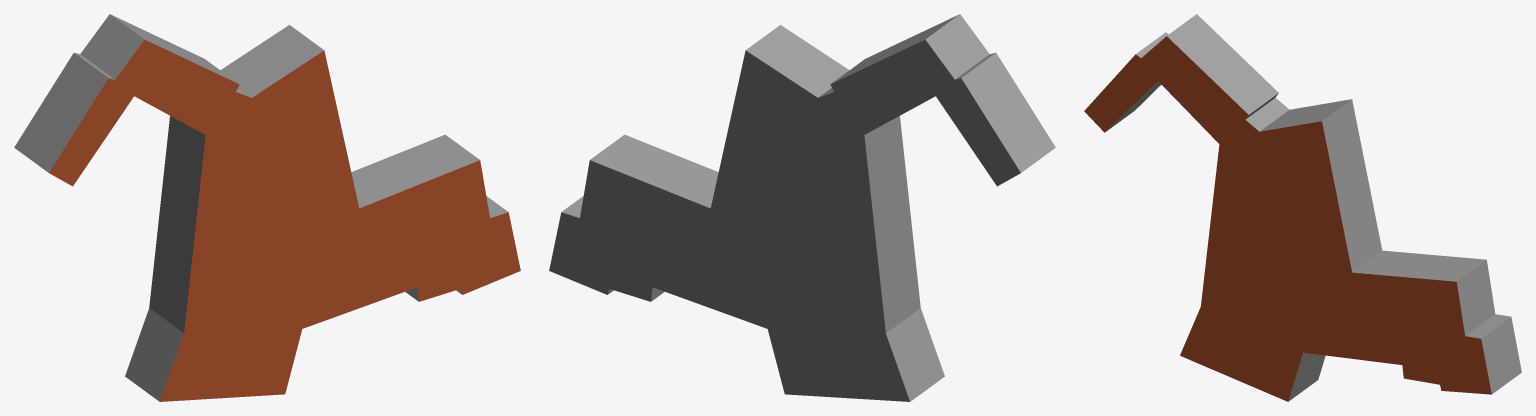
The model's file is construction_5133_assumed_A_Casa_h6m.obj.
3 views of the same model, side by side, from view 1: azimuth 30°, elevation 25°; view 2: azimuth 150°, elevation 25°; view 3: azimuth 330°, elevation 25° (orthographic). The views are drawn at different scales.
Parts seen in each view (by area): view 1: construction_5133_assumed_A_Casa; view 2: construction_5133_assumed_A_Casa; view 3: construction_5133_assumed_A_Casa.
Part boxes in pixels (x1=…): construction_5133_assumed_A_Casa: x1=14, y1=14, x2=520, y2=401; construction_5133_assumed_A_Casa: x1=549, y1=14, x2=1055, y2=401; construction_5133_assumed_A_Casa: x1=1084, y1=14, x2=1521, y2=401.
Size of the model in its own units: 46.87 by 36.94 by 6.
